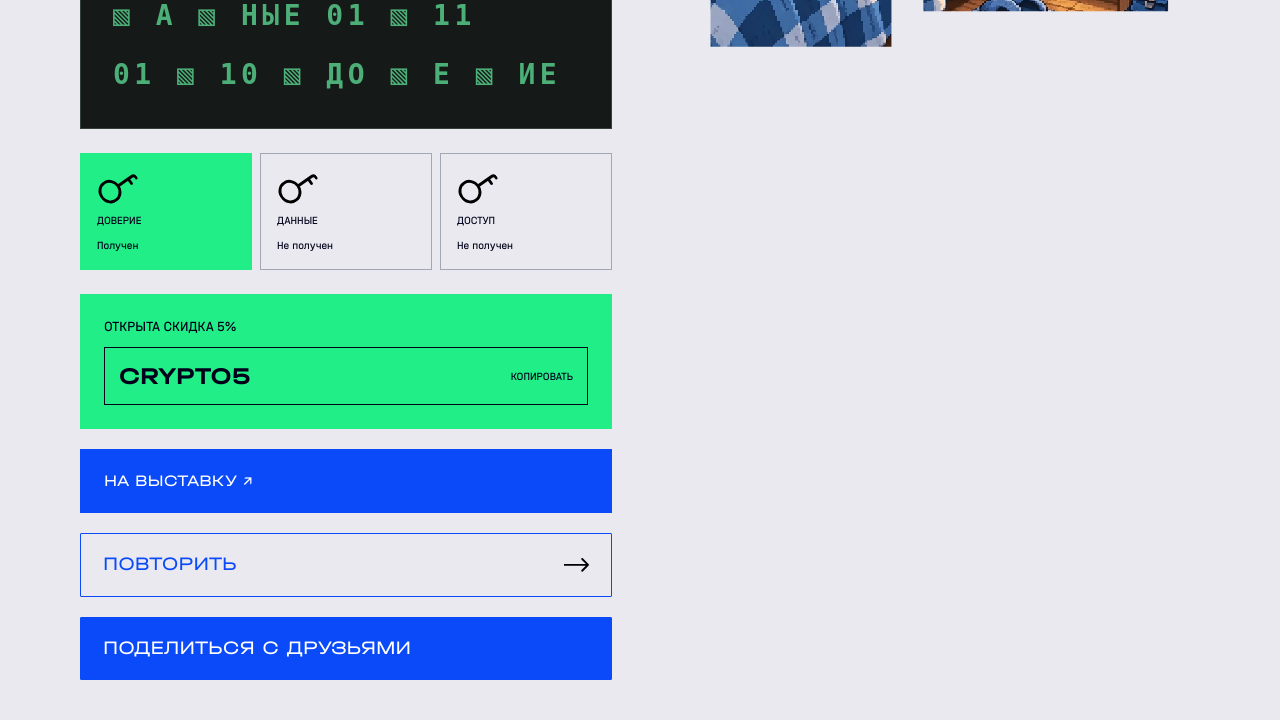
it: Final › публикует результат и показывает статус
The image size is (1280, 720).
(page scrolled)
Click the button "ПОДЕЛИТЬСЯ С ДРУЗЬЯМИ" at (346, 648), box left=80, top=617, right=612, bottom=680
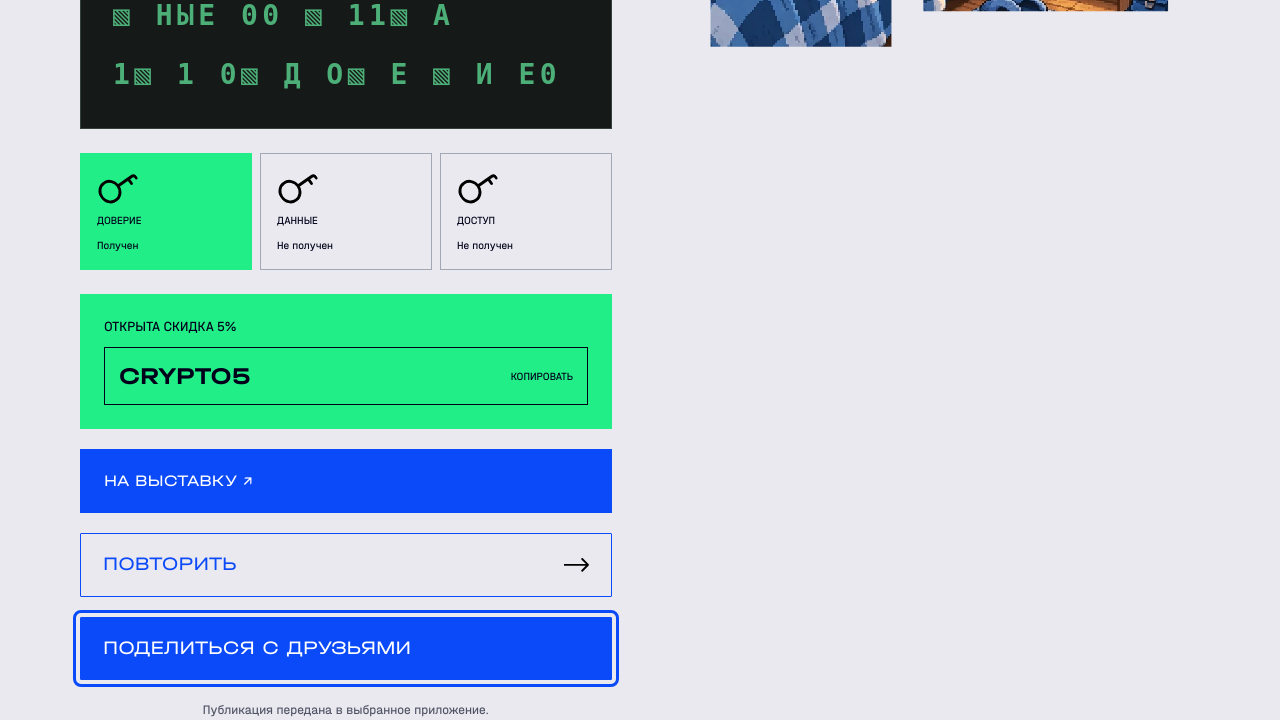
Check: the message reads "Публикация передана в выбранное приложение.", box left=203, top=702, right=489, bottom=717
